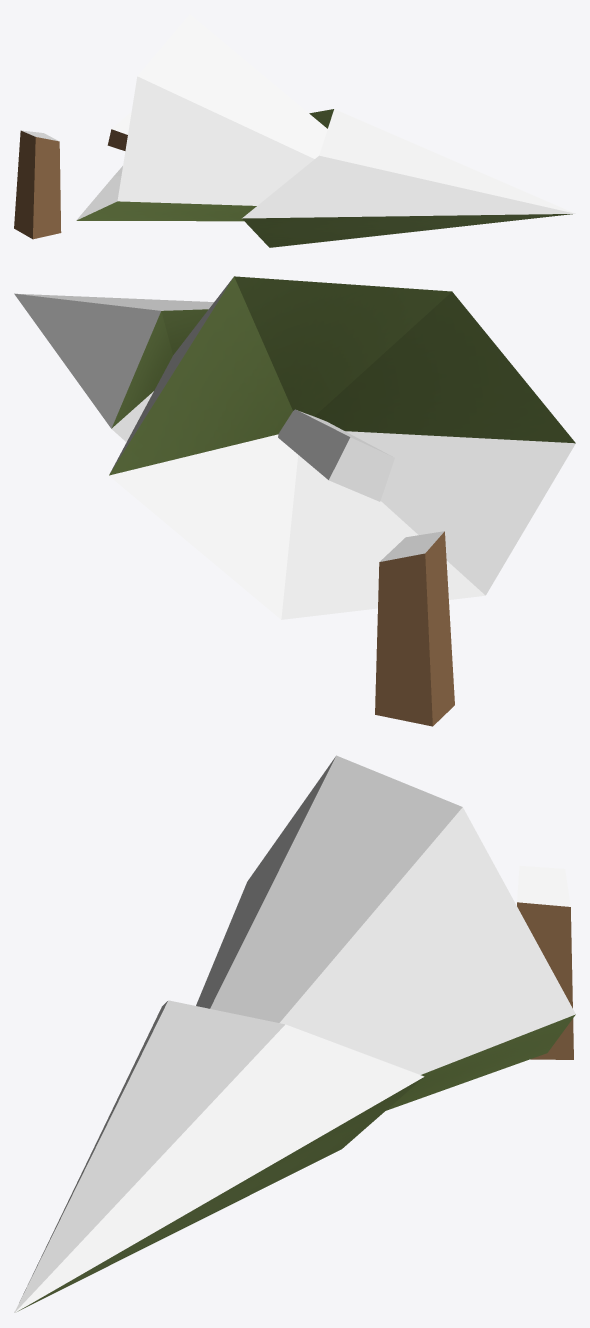
Rendered from Pine_Tree_crk_s_Snow_BT_03.fbx.
3 views of the same model, one above another, from view 1: azimuth 30°, elevation 25°; view 2: azimuth 150°, elevation 25°; view 3: azimuth 270°, elevation 25° (orthographic). The views are drawn at different scales.
Visible parts, largest first — view 1: Pine_Tree_crk_s_Snow_BT_03; view 2: Pine_Tree_crk_s_Snow_BT_03; view 3: Pine_Tree_crk_s_Snow_BT_03.
Part boxes in pixels (x1,y1,x2,y2): Pine_Tree_crk_s_Snow_BT_03: [14, 14, 575, 247]; Pine_Tree_crk_s_Snow_BT_03: [14, 276, 575, 726]; Pine_Tree_crk_s_Snow_BT_03: [14, 755, 575, 1312].
Bounding box in the file's own units: 124 × 59.67 × 87.13.
